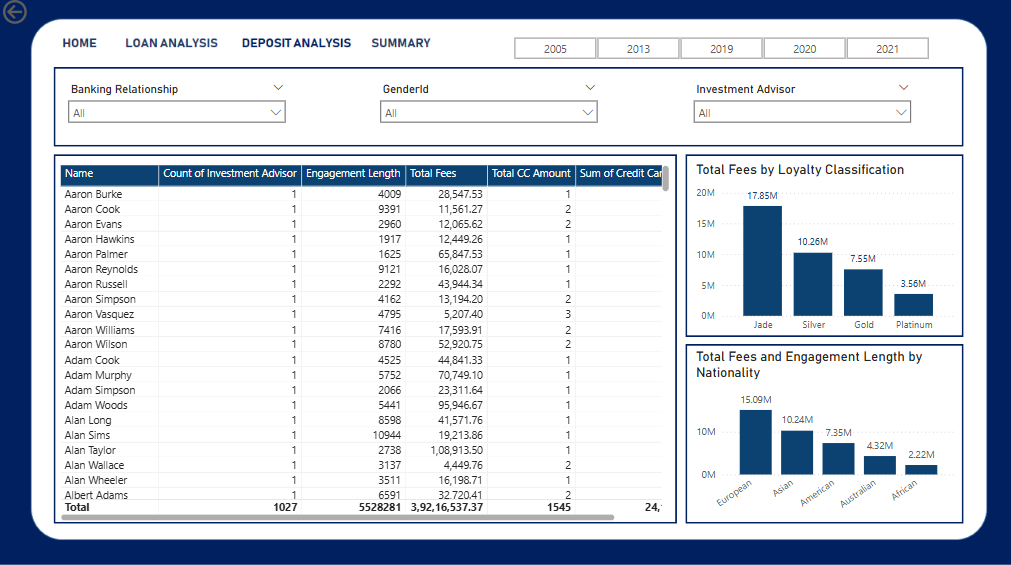

Layout of this report page (visuals, bound fields, positions):
{"tool":"powerbi","page":{"name":"Drill Through","canvas":[1280,720],"ordinal":4},"visuals":[{"type":"tableEx","fields":{"Values":["banking_case customer.Name","CountNonNull(banking_case customer.Investment Advisor)","banking_case customer.Engagement Length","banking_case customer.Total Fees","banking_case customer.Total CC Amount","Sum(banking_case customer.Credit Card Balance)"]},"box":[72.7,207.6,777.5,458.5],"z":0},{"type":"actionButton","box":[0,0,100,40],"z":1000},{"type":"clusteredColumnChart","fields":{"Category":["banking_case customer.Loyalty Classification"],"Y":["banking_case customer.Total Fees"]},"box":[873.6,207.6,336.5,225.1],"z":2000},{"type":"columnChart","fields":{"Category":["banking_case customer.Nationality"],"Y":["banking_case customer.Total Fees"]},"box":[873.6,444.4,336.5,221.6],"z":3000},{"type":"slicer","fields":{"Values":["banking_case customer.Banking Relationship"]},"box":[77.4,104.4,293.2,76.2],"z":4000},{"type":"slicer","fields":{"Values":["banking_case customer.GenderId"]},"box":[471.4,104.4,293.2,76.2],"z":5000},{"type":"slicer","fields":{"Values":["banking_case customer.Investment Advisor"]},"box":[865.4,104.4,293.2,76.2],"z":6000},{"type":"slicer","fields":{"Values":["banking_case customer.Year of Joining"]},"box":[623.8,46,571.4,38.1],"z":7000},{"type":"actionButton","box":[72.8,44.2,58.5,31],"z":8000},{"type":"actionButton","box":[157.1,44.6,125.5,30.5],"z":9000},{"type":"actionButton","box":[297.9,44.6,147.8,30.5],"z":10000},{"type":"actionButton","box":[466.8,39.7,83.2,39.7],"z":11000}]}

Visuals, with their boxes in screenshot pixels (x1, y1, x2, y2), scaled from the page's 1280x720 canvas onto the 1011x565 screenshot:
tableEx - banking_case customer.Name x CountNonNull(banking_case customer.Investment Advisor): Rect(57, 163, 672, 523)
actionButton: Rect(0, 0, 79, 31)
clusteredColumnChart - banking_case customer.Loyalty Classification x banking_case customer.Total Fees: Rect(690, 163, 956, 340)
columnChart - banking_case customer.Nationality x banking_case customer.Total Fees: Rect(690, 349, 956, 523)
slicer - banking_case customer.Banking Relationship: Rect(61, 82, 293, 142)
slicer - banking_case customer.GenderId: Rect(372, 82, 604, 142)
slicer - banking_case customer.Investment Advisor: Rect(684, 82, 915, 142)
slicer - banking_case customer.Year of Joining: Rect(493, 36, 944, 66)
actionButton: Rect(58, 35, 104, 59)
actionButton: Rect(124, 35, 223, 59)
actionButton: Rect(235, 35, 352, 59)
actionButton: Rect(369, 31, 434, 62)
